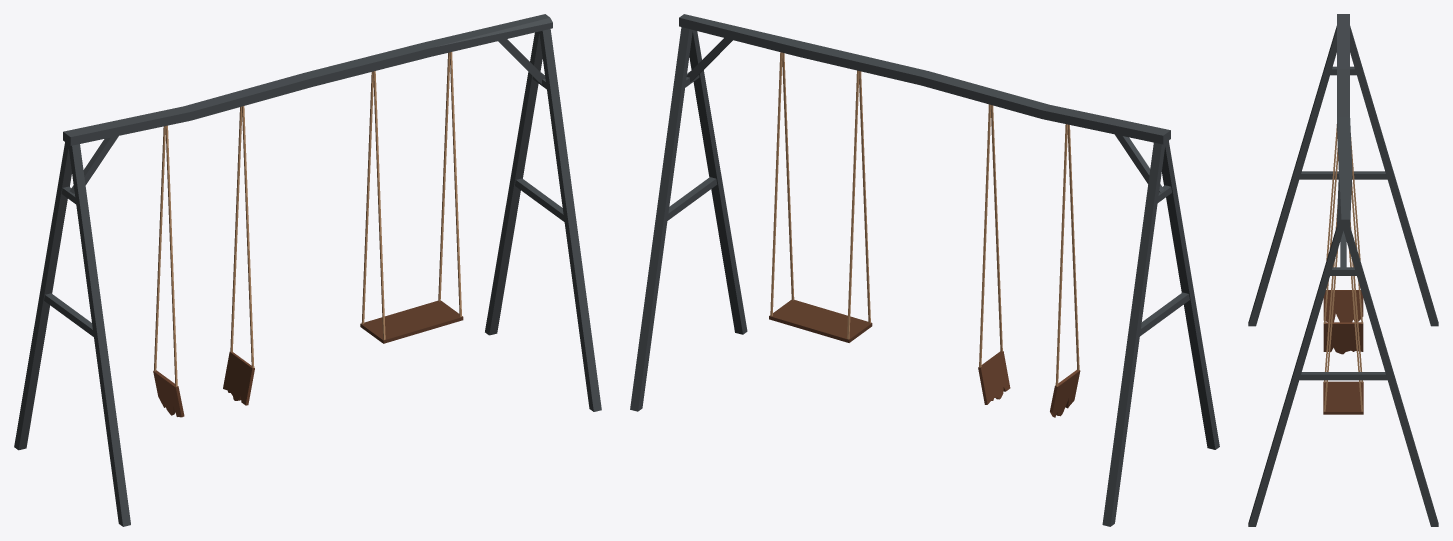
The model's file is Playground_01.fbx.
The picture shows the model from 3 angles, left to right: view 1: azimuth 30°, elevation 25°; view 2: azimuth 150°, elevation 25°; view 3: azimuth 270°, elevation 25°; orthographic projection. The views are drawn at different scales.
Visible parts, largest first — view 1: Playground_01; view 2: Playground_01; view 3: Playground_01.
Part boxes in pixels (x1=…): Playground_01: x1=14, y1=14, x2=601, y2=526; Playground_01: x1=630, y1=14, x2=1219, y2=526; Playground_01: x1=1248, y1=14, x2=1438, y2=526.
Size of the model in its own units: 302 by 211 by 118.
